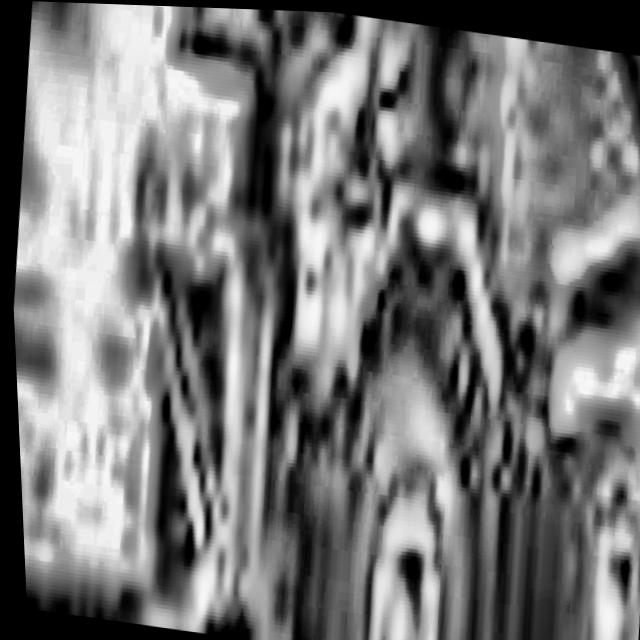dump_truck: (89, 3, 640, 640)
